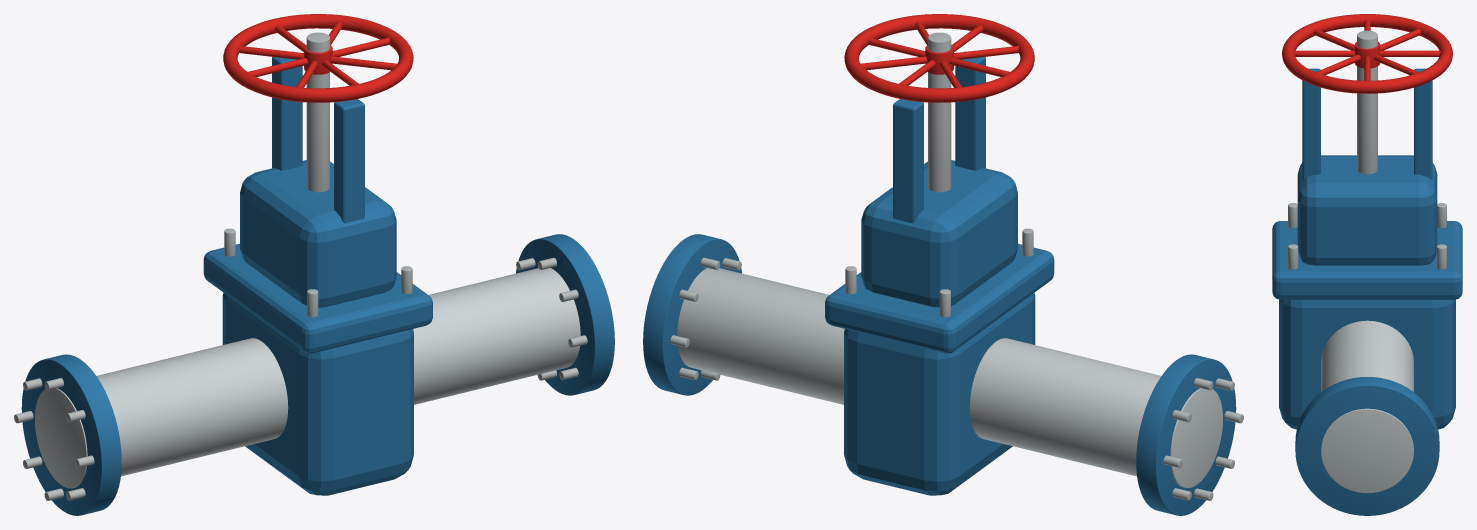
The model's file is flanged_gate_valve.glb.
3 renders of one model, left to right at view 1: azimuth 30°, elevation 25°; view 2: azimuth 150°, elevation 25°; view 3: azimuth 270°, elevation 25°, orthographic. The views are drawn at different scales.
Visible parts, largest first — view 1: PIPE, GATE_BODY, BONNET, BONNET_FLANGE, FLANGE_IN, FLANGE_OUT, KIN_HANDWHEEL, YOKE_-0.24, KIN_STEM, YOKE_0.24; view 2: PIPE, GATE_BODY, BONNET, BONNET_FLANGE, FLANGE_IN, FLANGE_OUT, KIN_HANDWHEEL, YOKE_0.24, KIN_STEM, YOKE_-0.24; view 3: BONNET, GATE_BODY, PIPE, FLANGE_OUT, BONNET_FLANGE, KIN_HANDWHEEL, KIN_STEM, YOKE_0.24, YOKE_-0.24, HANDWHEEL_HUB, SPOKE_90, SPOKE_270 (+8 smaller).
Part boxes in pixels (box(x1,y1,x2,y2)): PIPE: box(35, 268, 580, 488); GATE_BODY: box(222, 293, 413, 495); BONNET: box(240, 160, 396, 307); BONNET_FLANGE: box(203, 243, 432, 353); FLANGE_IN: box(21, 354, 121, 515); FLANGE_OUT: box(516, 234, 614, 395); KIN_HANDWHEEL: box(223, 14, 413, 102); YOKE_-0.24: box(334, 99, 364, 223); KIN_STEM: box(306, 32, 329, 192); YOKE_0.24: box(272, 51, 302, 170); PIPE: box(677, 268, 1222, 488); GATE_BODY: box(844, 293, 1035, 495); BONNET: box(861, 160, 1017, 307); BONNET_FLANGE: box(825, 243, 1054, 353); FLANGE_IN: box(1136, 354, 1236, 515); FLANGE_OUT: box(643, 234, 741, 395); KIN_HANDWHEEL: box(844, 14, 1034, 102); YOKE_0.24: box(893, 99, 923, 223); KIN_STEM: box(928, 32, 951, 192); YOKE_-0.24: box(955, 51, 985, 170); BONNET: box(1297, 155, 1437, 265); GATE_BODY: box(1279, 299, 1455, 429); PIPE: box(1321, 320, 1413, 493); FLANGE_OUT: box(1295, 377, 1439, 515); BONNET_FLANGE: box(1272, 221, 1462, 299); KIN_HANDWHEEL: box(1282, 14, 1452, 93); KIN_STEM: box(1357, 30, 1377, 174); YOKE_0.24: box(1414, 68, 1432, 180); YOKE_-0.24: box(1302, 68, 1320, 180); HANDWHEEL_HUB: box(1354, 42, 1380, 68); SPOKE_90: box(1379, 50, 1440, 56); SPOKE_270: box(1294, 50, 1355, 56).
Bounding box in the file's own units: 2.36 × 1.8 × 0.82.
